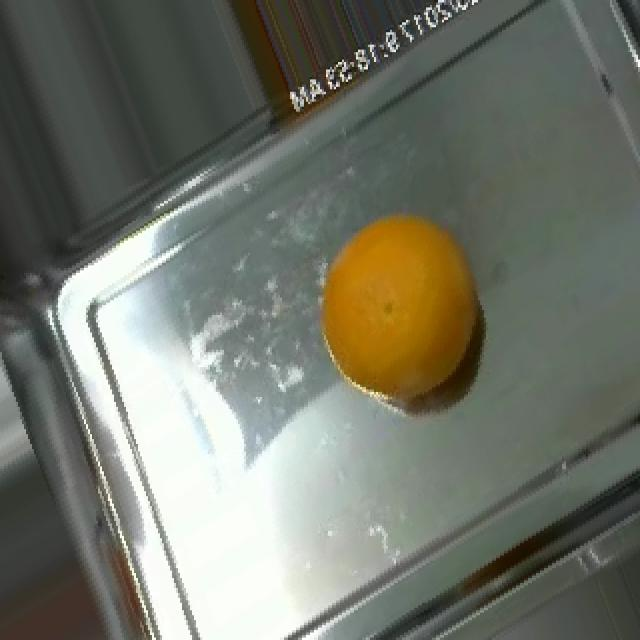Fruit: (300, 191, 500, 427)
